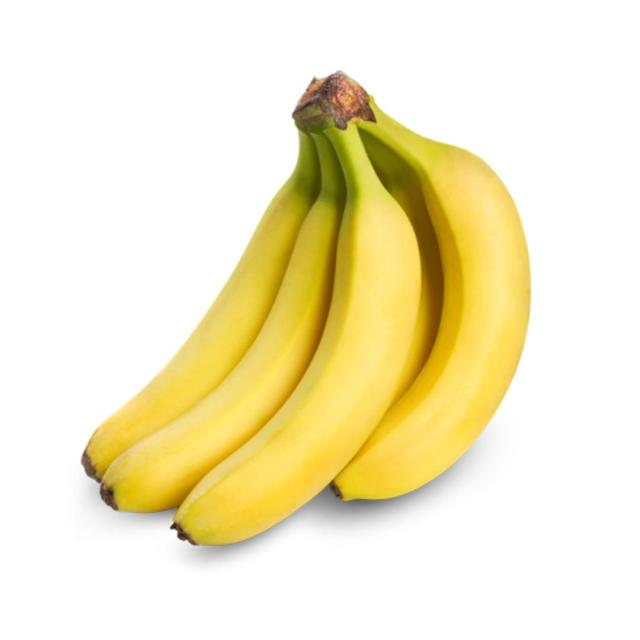Pisang: (88, 74, 532, 550)
